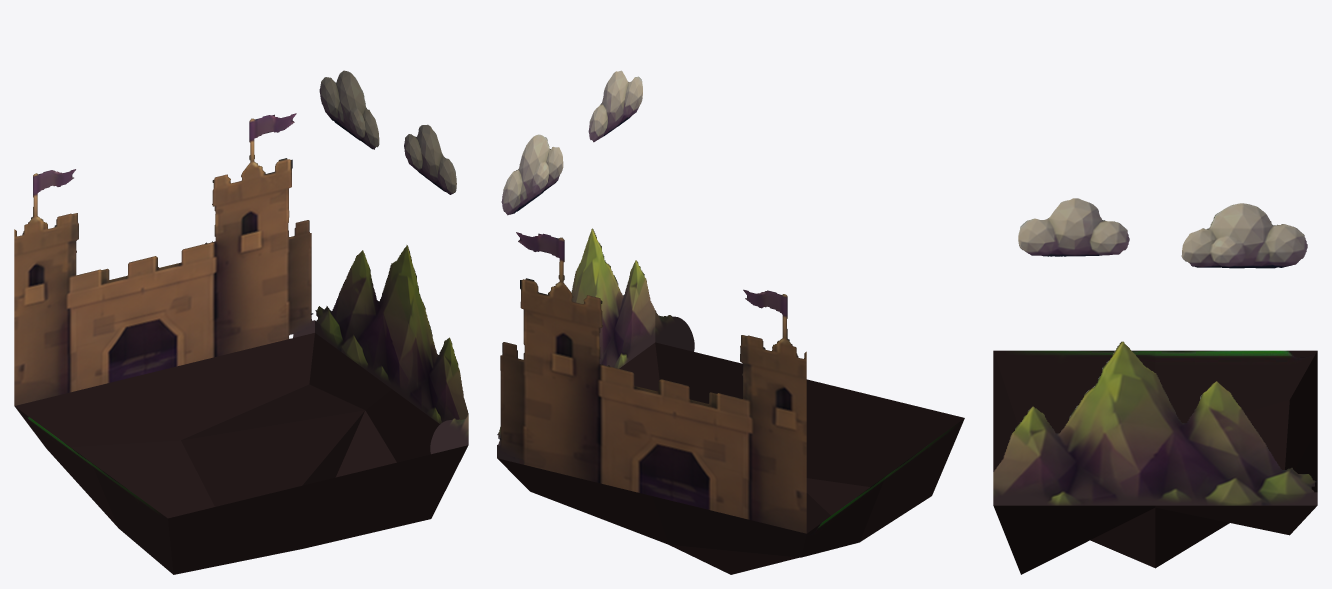
Rendered from FONDO.fbx.
3 views of the same model, side by side, from view 1: azimuth 30°, elevation 25°; view 2: azimuth 150°, elevation 25°; view 3: azimuth 270°, elevation 25° (orthographic). The views are drawn at different scales.
Parts seen in each view (by area): view 1: Plane_tutorial; view 2: Plane_tutorial; view 3: Plane_tutorial.
Part boxes in pixels (<box>): Plane_tutorial: <box>14,70,468,574</box>; Plane_tutorial: <box>497,70,964,574</box>; Plane_tutorial: <box>993,198,1317,574</box>.
Size of the model in its own units: 5434 by 7801 by 4808.
